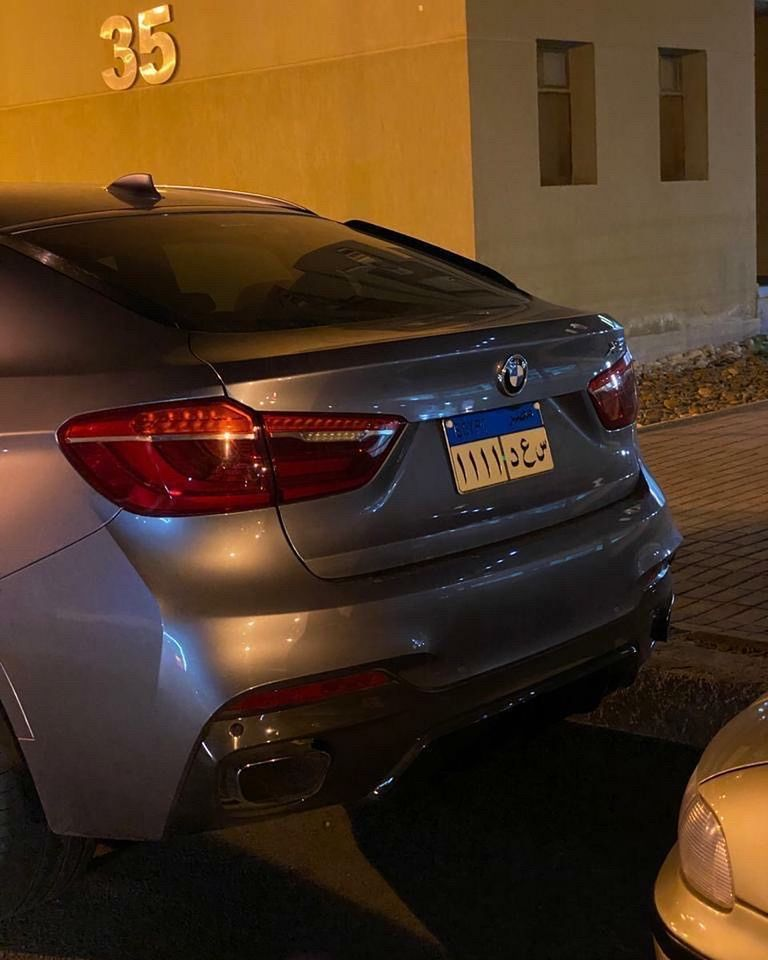carpl: (451, 409, 553, 496)
